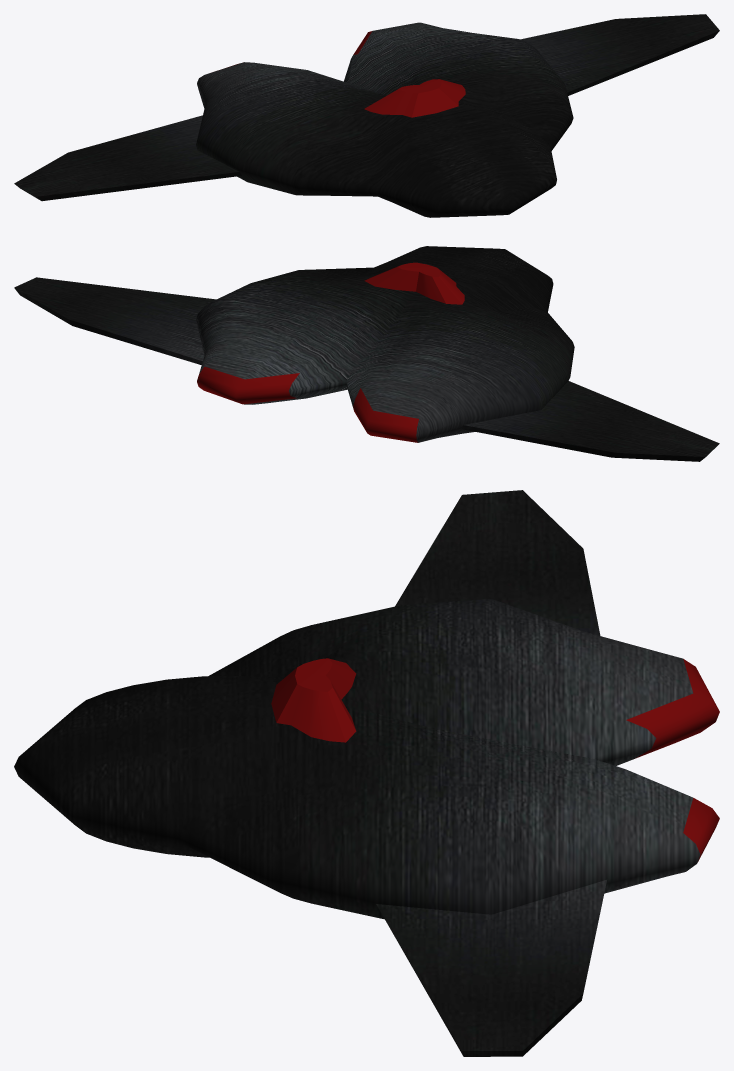
Rendered from Minion.fbx.
The picture shows the model from 3 angles, top to bottom: view 1: azimuth 30°, elevation 25°; view 2: azimuth 150°, elevation 25°; view 3: azimuth 270°, elevation 25°; orthographic projection. The views are drawn at different scales.
Visible parts, largest first — view 1: pSphere1; view 2: pSphere1; view 3: pSphere1.
Boxes of the visible parts, left/top/right/bottom form: pSphere1: left=14, top=14, right=719, bottom=217; pSphere1: left=14, top=246, right=719, bottom=461; pSphere1: left=14, top=490, right=719, bottom=1056.
Size of the model in its own units: 3.43 by 0.4363 by 1.82.
